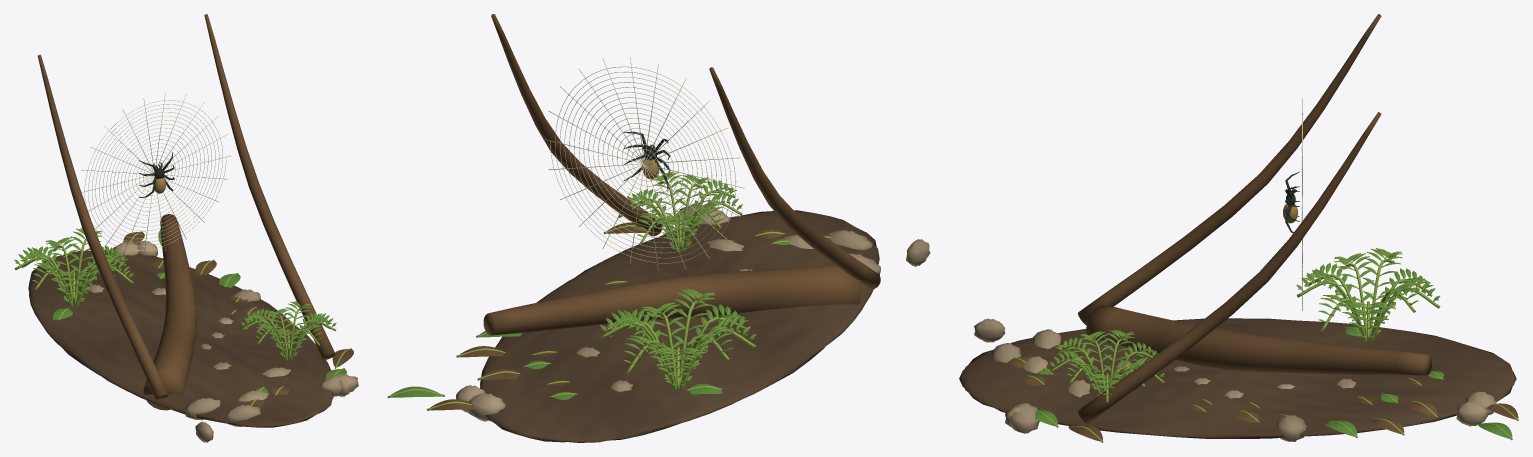
3 views of the same model, side by side, from view 1: azimuth 30°, elevation 25°; view 2: azimuth 150°, elevation 25°; view 3: azimuth 270°, elevation 25° (orthographic). The views are drawn at different scales.
Visible parts, largest first — view 1: B15_SPEC_Substrate_export, B15_SPEC_Bark_export, B15_SPEC_Silk_export, B15_SPEC_Leaf new growth_export, B15_SPEC_Leaf jade_export, B15_SPEC_Matrix sandstone_export, B15_SPEC_Chitin_export; view 2: B15_SPEC_Substrate_export, B15_SPEC_Bark_export, B15_SPEC_Silk_export, B15_SPEC_Leaf new growth_export, B15_SPEC_Leaf jade_export, B15_SPEC_Matrix sandstone_export, B15_SPEC_Chitin_export; view 3: B15_SPEC_Substrate_export, B15_SPEC_Bark_export, B15_SPEC_Leaf new growth_export, B15_SPEC_Leaf jade_export, B15_SPEC_Matrix sandstone_export.
Boxes of the visible parts, bbox=[...] form: B15_SPEC_Substrate_export: bbox=[28, 250, 333, 427]; B15_SPEC_Bark_export: bbox=[37, 14, 353, 410]; B15_SPEC_Silk_export: bbox=[81, 93, 230, 256]; B15_SPEC_Leaf new growth_export: bbox=[14, 228, 351, 405]; B15_SPEC_Leaf jade_export: bbox=[15, 228, 346, 392]; B15_SPEC_Matrix sandstone_export: bbox=[87, 240, 358, 442]; B15_SPEC_Chitin_export: bbox=[138, 152, 174, 197]; B15_SPEC_Substrate_export: bbox=[480, 210, 879, 442]; B15_SPEC_Bark_export: bbox=[429, 14, 880, 410]; B15_SPEC_Silk_export: bbox=[544, 56, 744, 270]; B15_SPEC_Leaf new growth_export: bbox=[387, 171, 831, 410]; B15_SPEC_Leaf jade_export: bbox=[389, 172, 789, 399]; B15_SPEC_Matrix sandstone_export: bbox=[456, 204, 930, 421]; B15_SPEC_Chitin_export: bbox=[623, 131, 670, 191]; B15_SPEC_Substrate_export: bbox=[959, 318, 1516, 438]; B15_SPEC_Bark_export: bbox=[1007, 14, 1518, 441]; B15_SPEC_Leaf new growth_export: bbox=[1013, 248, 1518, 442]; B15_SPEC_Leaf jade_export: bbox=[1034, 248, 1512, 438]; B15_SPEC_Matrix sandstone_export: bbox=[974, 318, 1496, 441].
Bounding box in the file's own units: 1.17 × 1.42 × 2.17.
